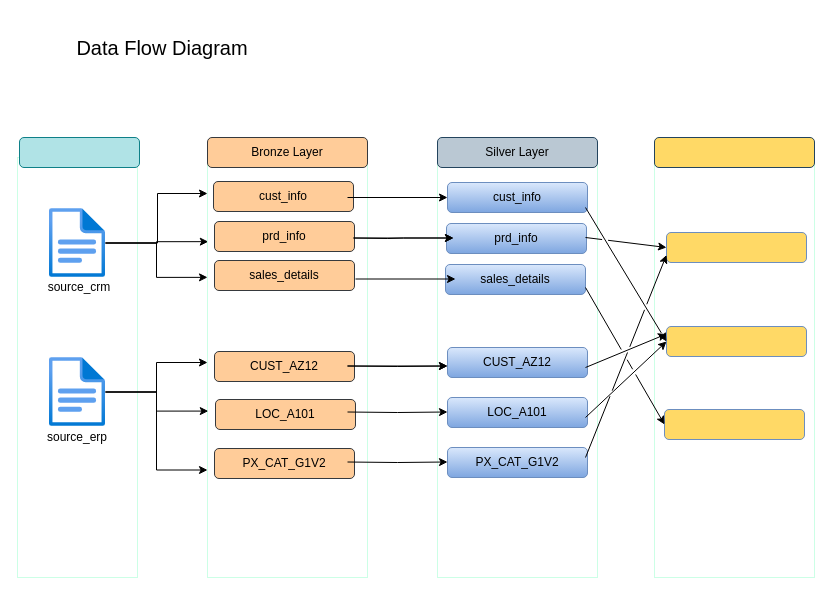
This 832x595 diagram has some shape labels left out. Each missing label, with the centre of its shape:
dim_customers: (x=736, y=341)
dim_prducts: (x=736, y=247)
fact_sales: (x=734, y=424)
Gold Layer: (x=734, y=152)
Source: (x=79, y=152)
